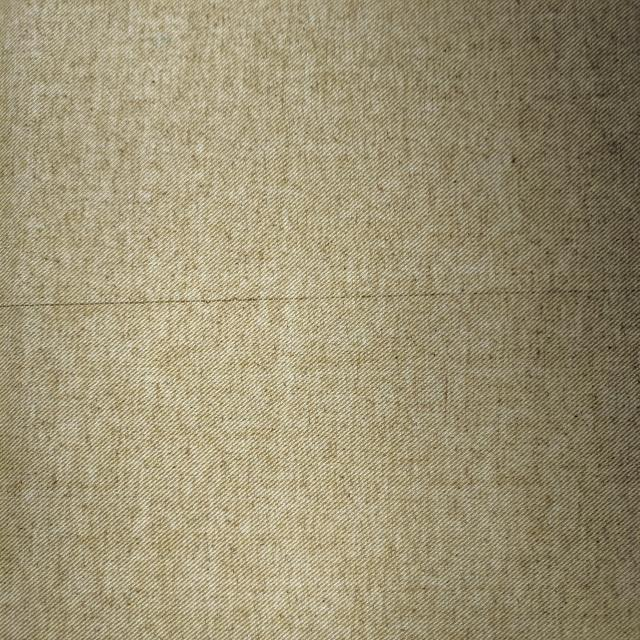Line: (0, 285, 640, 310)
